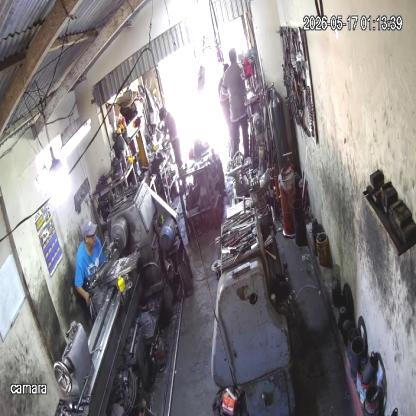lentes: (84, 230, 97, 242)
